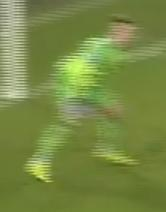goalkeeper: (12, 3, 166, 194)
